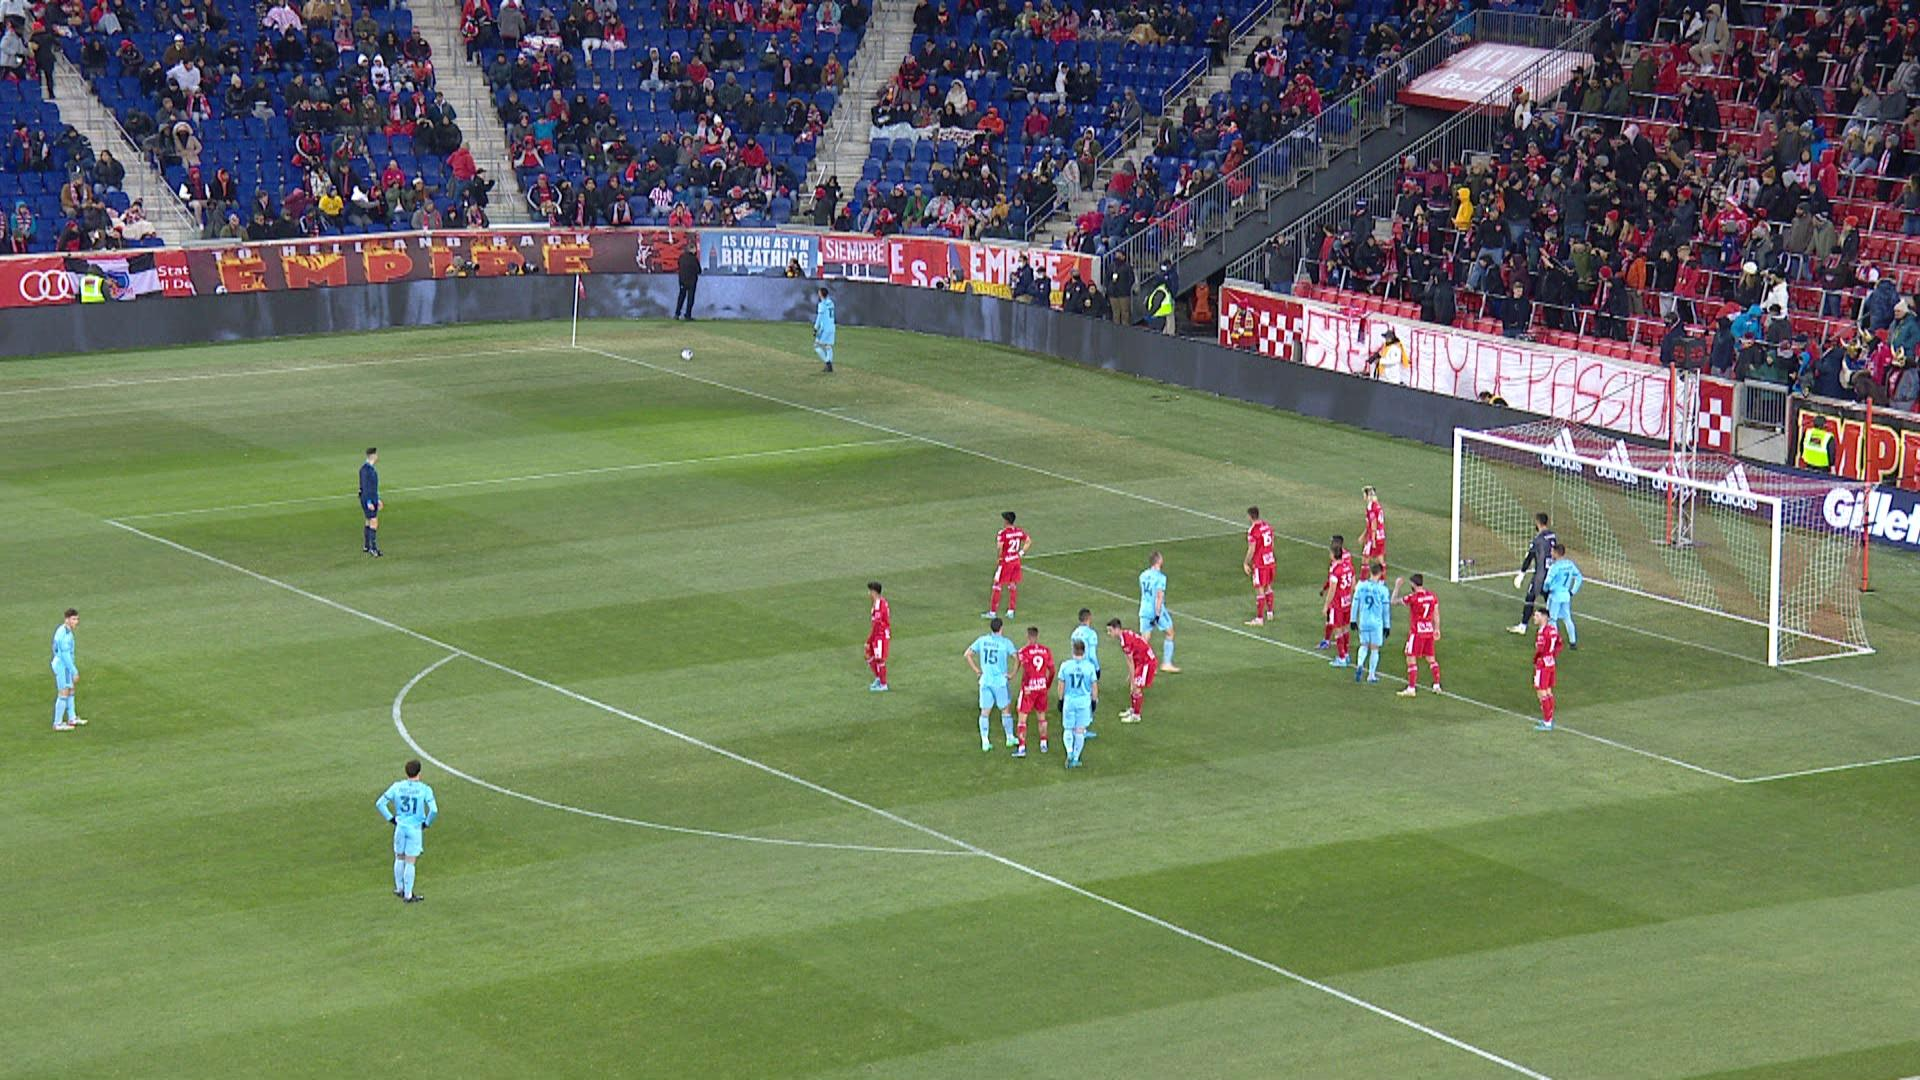football: (680, 347, 694, 361)
